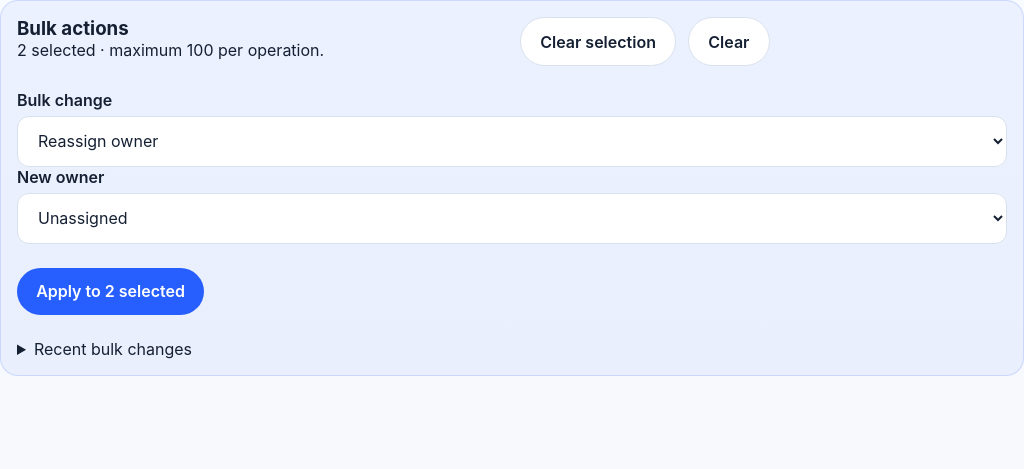
Test case: bulk actions › keeps one idempotency key while a failed change is retried
This screenshot has width=1024, height=469.
Select "Mina Owner" in the dropdown labelled "New owner" at coordinates (512, 218), box [17,193,1007,244]
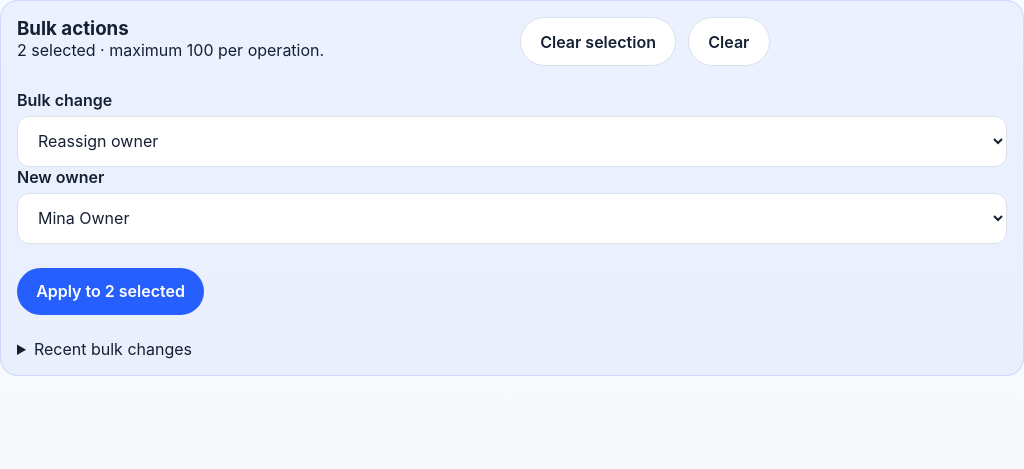
Click the button "Apply to 2 selected" at coordinates (111, 291), box [17,268,204,315]
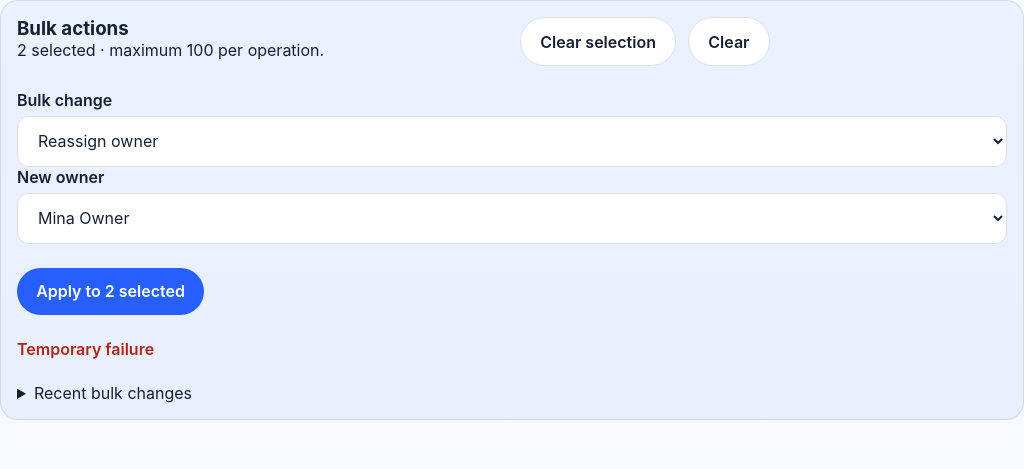
Now the text "Temporary failure" is shown, box [17,339,154,359]
Click the button "Apply to 2 selected" at coordinates (111, 291), box [17,268,204,315]
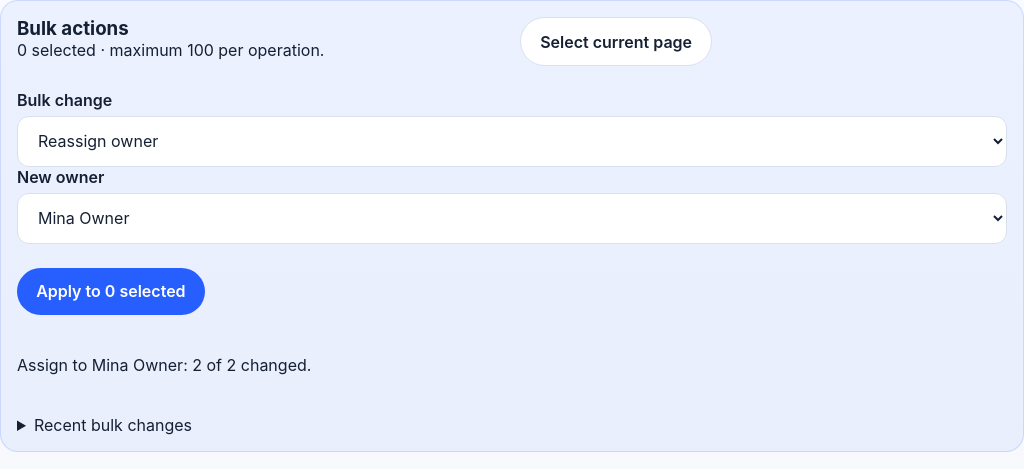
Now the text "Assign to Mina Owner: 2 of 2 changed." is shown, box [17,355,311,375]
